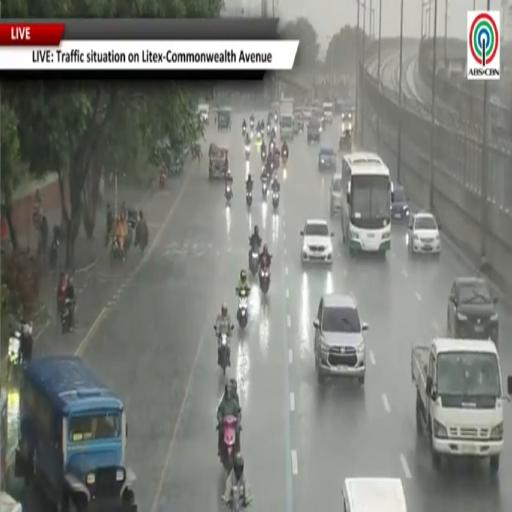bus: (341, 153, 391, 255)
car: (313, 294, 368, 385), (447, 277, 498, 346), (301, 219, 333, 264), (408, 212, 440, 255), (391, 184, 409, 220), (330, 172, 341, 216), (318, 147, 336, 170), (307, 118, 321, 143), (339, 130, 352, 153), (342, 109, 353, 132), (198, 104, 209, 124)
motorcycle: (8, 320, 32, 381), (221, 415, 238, 473), (215, 326, 230, 375), (8, 331, 22, 381), (227, 484, 250, 511), (218, 333, 230, 375), (60, 298, 74, 333), (237, 290, 248, 328), (110, 237, 126, 261), (49, 237, 59, 269), (259, 267, 270, 294), (249, 247, 258, 276), (225, 185, 232, 205), (273, 190, 279, 210), (159, 171, 166, 188), (262, 180, 267, 200), (246, 190, 252, 206), (282, 150, 288, 165), (274, 151, 279, 168), (269, 160, 274, 177), (245, 145, 250, 161), (269, 141, 275, 153), (261, 151, 266, 163), (266, 124, 271, 136), (250, 120, 254, 131), (242, 125, 246, 136), (274, 114, 278, 123)
truck: (15, 356, 137, 511), (412, 339, 511, 474), (279, 99, 294, 139), (0, 491, 22, 511), (322, 102, 333, 124)
